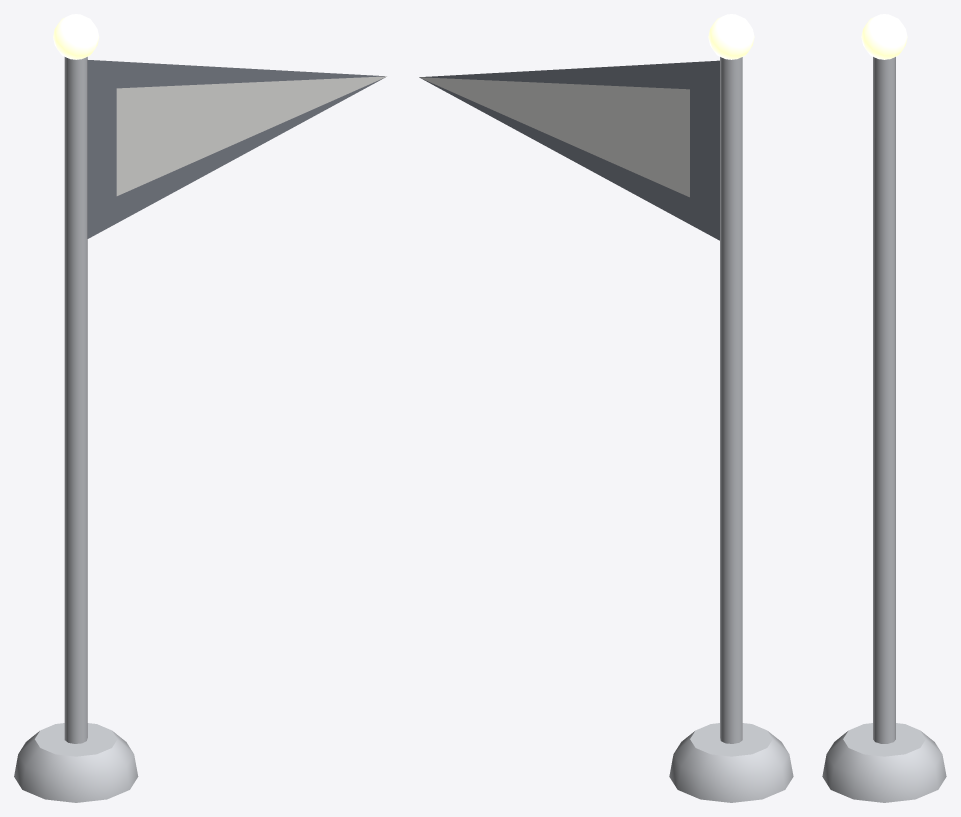
The model's file is flag.glb.
3 views of the same model, side by side, from view 1: azimuth 30°, elevation 25°; view 2: azimuth 150°, elevation 25°; view 3: azimuth 270°, elevation 25° (orthographic).
Parts seen in each view (by area): view 1: pennant, flag; view 2: pennant, flag; view 3: flag.
Boxes of the visible parts, left/top/right/bottom form: pennant: left=87, top=60, right=386, bottom=238; flag: left=14, top=14, right=138, bottom=802; pennant: left=419, top=60, right=719, bottom=240; flag: left=669, top=14, right=793, bottom=802; flag: left=822, top=14, right=946, bottom=802.
Size of the model in its own units: 0.511 by 1.01 by 0.15.
